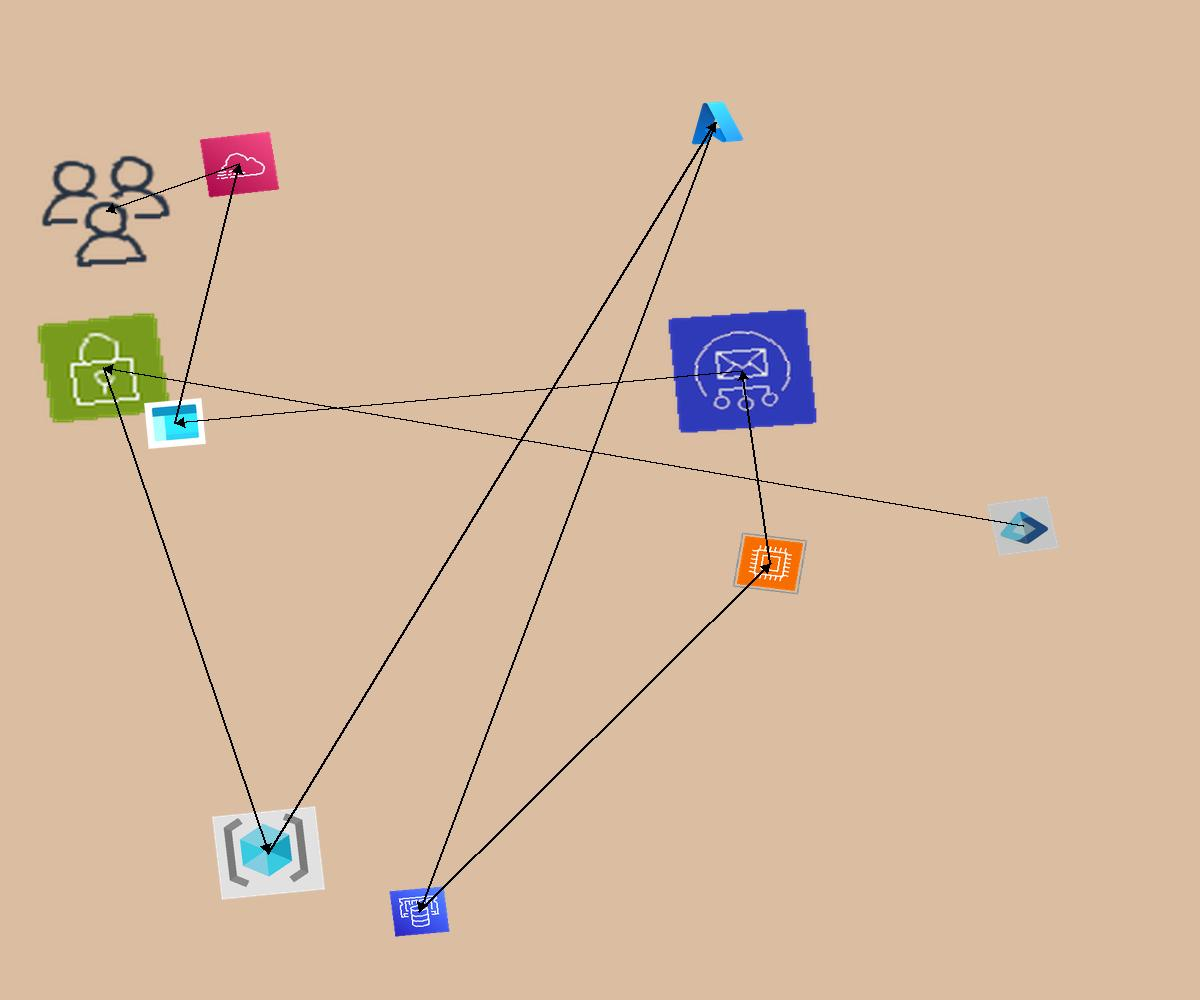AWS-Category_Compute: (732, 532, 808, 595)
AWS-CloudTrail: (199, 131, 280, 198)
AWS-ElastiCache: (389, 886, 450, 937)
AWS-Public-subnet: (35, 311, 172, 425)
AWS-Res_Users: (31, 149, 181, 274)
AWS-Simple-Email-Service: (667, 308, 818, 434)
Azure_management-portal: (144, 398, 206, 449)
Azure_microsoft_entra: (987, 496, 1059, 556)
Azure_resource_group: (212, 806, 325, 900)
Azure_services: (685, 97, 746, 148)
